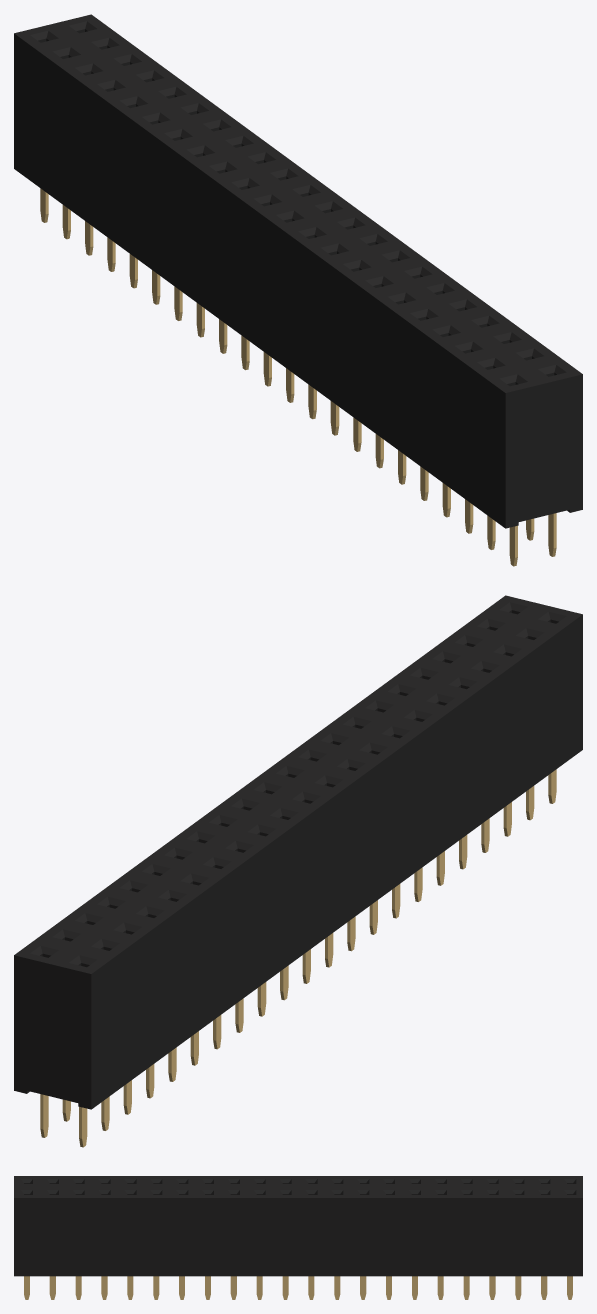
File: kc-pinsocket_2x22_p2.54mm_vertical.glb
3 views of the same model, one above another, from view 1: azimuth 30°, elevation 25°; view 2: azimuth 150°, elevation 25°; view 3: azimuth 270°, elevation 25° (orthographic). The views are drawn at different scales.
Parts seen in each view (by area): view 1: 0_0_0_0, 0.75_0.5_0.25_0.9; view 2: 0_0_0_0, 0.75_0.5_0.25_0.9; view 3: 0_0_0_0, 0.75_0.5_0.25_0.9.
Boxes of the visible parts, x1,y1,x2,y2 form: 0_0_0_0: (14, 14, 582, 528); 0.75_0.5_0.25_0.9: (40, 188, 556, 566); 0_0_0_0: (14, 595, 582, 1109); 0.75_0.5_0.25_0.9: (40, 769, 556, 1147); 0_0_0_0: (14, 1176, 582, 1276); 0.75_0.5_0.25_0.9: (24, 1276, 572, 1299).
Size of the model in its own units: 0.5082 by 1.16 by 5.59.
